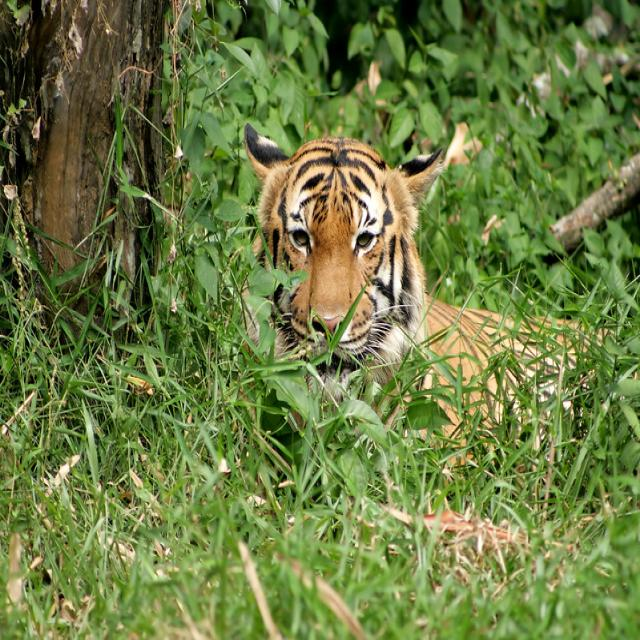Tiger: (240, 124, 571, 443)
